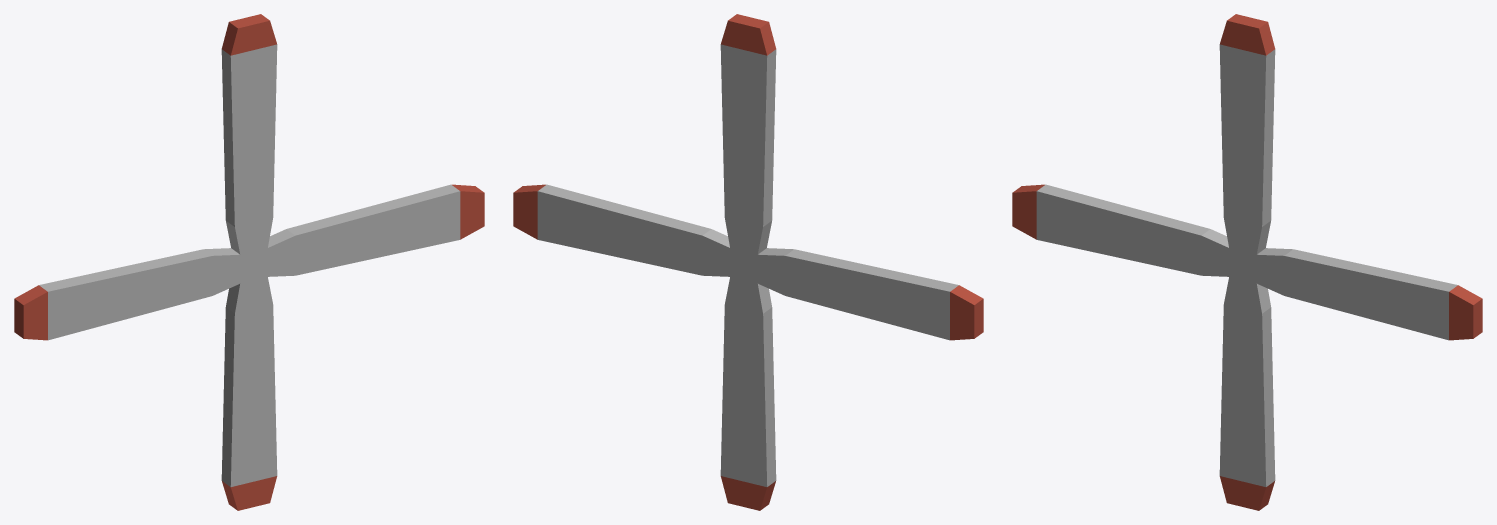
The picture shows the model from 3 angles, left to right: view 1: azimuth 30°, elevation 25°; view 2: azimuth 150°, elevation 25°; view 3: azimuth 330°, elevation 25°; orthographic projection.
Parts seen in each view (by area): view 1: Plane_02_2; view 2: Plane_02_2; view 3: Plane_02_2.
Boxes of the visible parts, x1,y1,x2,y2 form: Plane_02_2: [14, 14, 484, 510]; Plane_02_2: [513, 14, 983, 510]; Plane_02_2: [1012, 14, 1482, 510].
Size of the model in its own units: 172 by 172 by 5.87.
